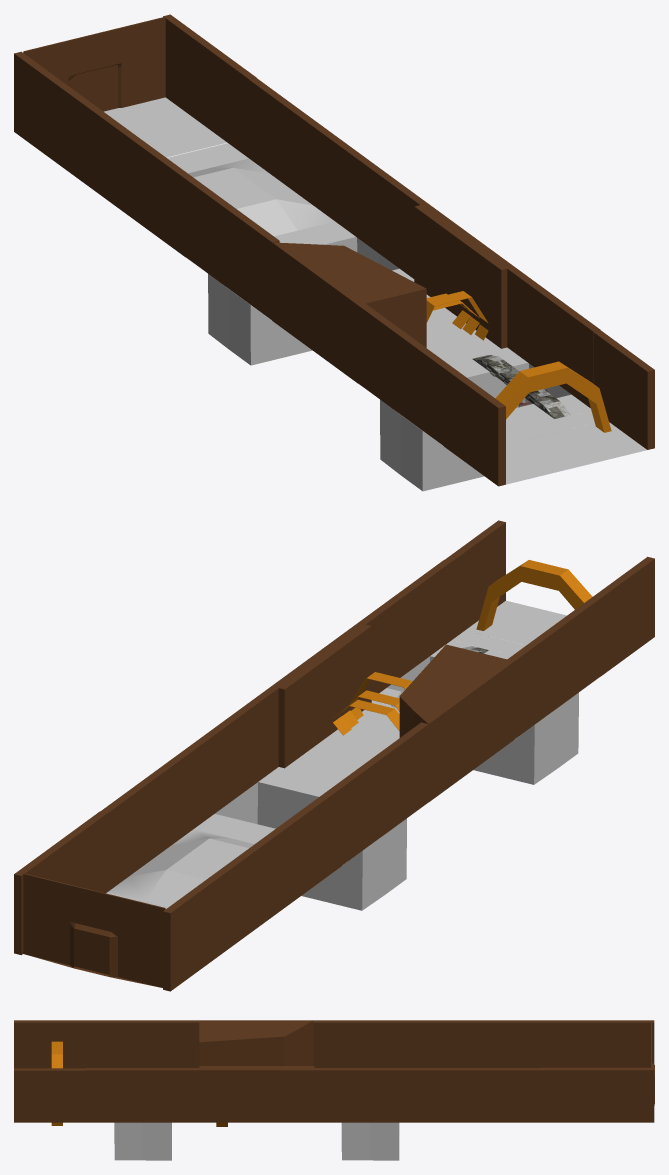
The model's file is Level Geometry.fbx.
3 views of the same model, one above another, from view 1: azimuth 30°, elevation 25°; view 2: azimuth 150°, elevation 25°; view 3: azimuth 270°, elevation 25° (orthographic). The views are drawn at different scales.
Visible parts, largest first — view 1: Cube__2_, Cube, Cube__1_, Plane__1__5, Cube__2__2, Cube__1__1, Cube__2__1, Cube__2__4, Cube__2__5, Cube__1__4, Cube__1__2, Cube__1__5 (+12 smaller); view 2: Cube__2_, Cube, Plane__1__2, Cube__2__4, Cube__1_, Cube__1__1, Cube__2__1, Cube__2__2, Cube__2__5, Cube__1__2, Cube__1__5, Plane__1__5 (+9 smaller); view 3: Cube__1_, Cube__1__4, Cube__1__1, Cube__1__5, Cube__1__2, Cube__2__1, Cube__2__5, Cube__2__2, Cube__2__4, Cube__2_, Cube__1__3, Cube__2__3 (+3 smaller).
Boxes of the visible parts, bbox=[...] form: Cube__2_: bbox=[272, 242, 426, 383]; Cube: bbox=[23, 17, 165, 111]; Cube__1_: bbox=[414, 204, 514, 348]; Plane__1__5: bbox=[359, 347, 591, 491]; Cube__2__2: bbox=[186, 177, 279, 320]; Cube__1__1: bbox=[249, 78, 342, 220]; Cube__2__1: bbox=[100, 114, 192, 257]; Cube__2__4: bbox=[14, 51, 106, 194]; Cube__2__5: bbox=[358, 303, 451, 445]; Cube__1__4: bbox=[163, 14, 256, 157]; Cube__1__2: bbox=[335, 141, 428, 278]; Cube__1__5: bbox=[507, 267, 600, 408]; Cube__2_: bbox=[399, 644, 514, 802]; Cube: bbox=[23, 873, 165, 987]; Plane__1__2: bbox=[194, 767, 427, 910]; Cube__2__4: bbox=[163, 848, 256, 991]; Cube__1_: bbox=[272, 622, 371, 768]; Cube__1__1: bbox=[101, 748, 193, 891]; Cube__2__1: bbox=[249, 785, 342, 927]; Cube__2__2: bbox=[335, 722, 428, 864]; Cube__2__5: bbox=[507, 596, 600, 738]; Cube__1__2: bbox=[186, 685, 278, 828]; Cube__1__5: bbox=[358, 560, 451, 693]; Plane__1__5: bbox=[371, 640, 600, 784]; Cube__1_: bbox=[199, 1066, 314, 1122]; Cube__1__4: bbox=[540, 1067, 654, 1122]; Cube__1__1: bbox=[427, 1068, 540, 1122]; Cube__1__5: bbox=[86, 1068, 199, 1122]; Cube__1__2: bbox=[314, 1068, 426, 1122]; Cube__2__1: bbox=[427, 1020, 540, 1067]; Cube__2__5: bbox=[86, 1020, 199, 1067]; Cube__2__2: bbox=[313, 1020, 426, 1067]; Cube__2__4: bbox=[540, 1020, 654, 1067]; Cube__2_: bbox=[199, 1020, 313, 1065]; Cube__1__3: bbox=[14, 1068, 85, 1122]; Cube__2__3: bbox=[14, 1020, 85, 1068].
Bounding box in the file's own units: 10500 × 9025 × 56350.
